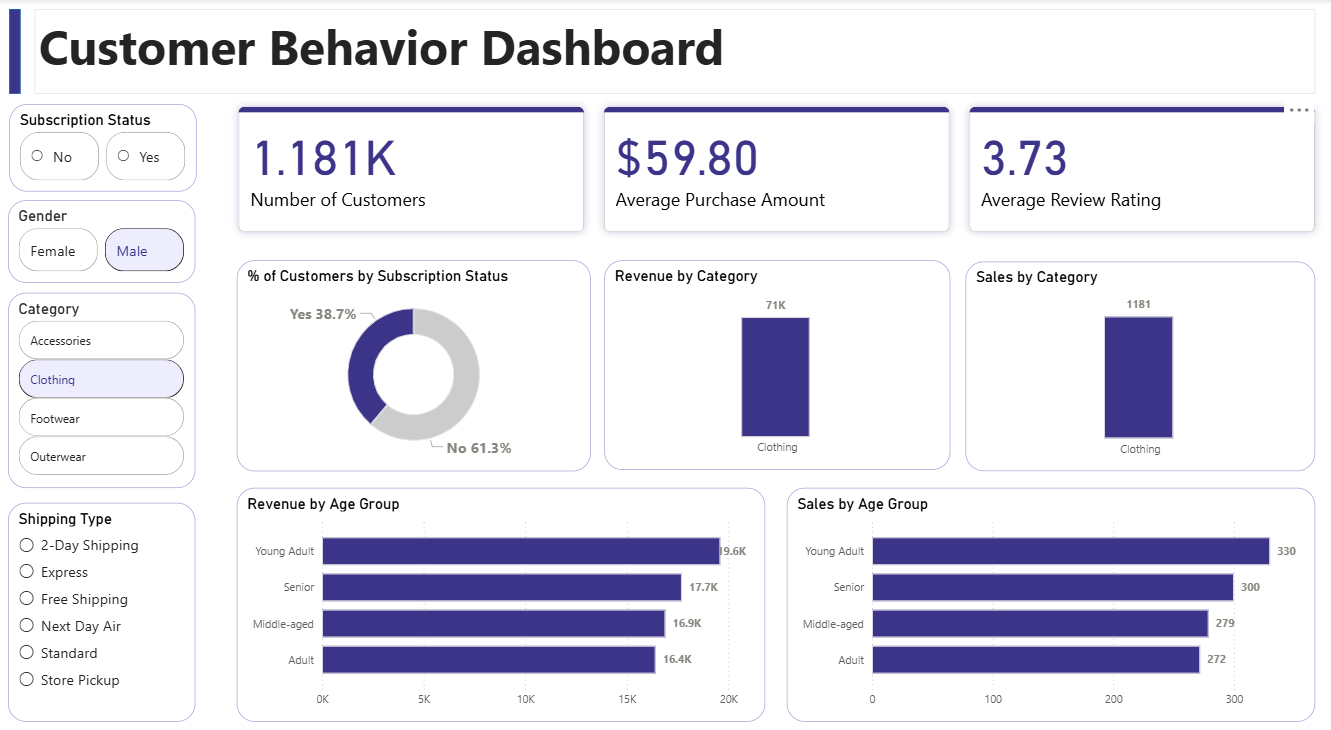

Layout of this report page (visuals, bound fields, positions):
{"tool":"powerbi","page":{"name":"Page 1","canvas":[1500,820],"ordinal":0},"visuals":[{"type":"shape","box":[23.7,11.1,12.5,94.7],"z":9000},{"type":"clusteredBarChart","title":"Sales by Age Group","fields":{"Category":["customer_behavior customer.age_group"],"Y":["CountNonNull(customer_behavior customer.customer_id)"]},"box":[889.9,544.5,589.1,260.4],"z":14000},{"type":"clusteredBarChart","title":"Revenue by Age Group","fields":{"Category":["customer_behavior customer.age_group"],"Y":["Sum(customer_behavior customer.purchase_amount)"]},"box":[277.1,544.5,589.1,260.4],"z":16000},{"type":"clusteredColumnChart","title":"Sales by Category","fields":{"Category":["customer_behavior customer.category"],"Y":["CountNonNull(customer_behavior customer.customer_id)"]},"box":[1089.1,292.5,389.9,234],"z":16156},{"type":"clusteredColumnChart","title":"Revenue by Category","fields":{"Y":["Sum(customer_behavior customer.purchase_amount)"],"Category":["customer_behavior customer.category"]},"box":[686.6,291.1,385.8,234],"z":16312},{"type":"donutChart","title":"% of Customers by Subscription Status","fields":{"Category":["customer_behavior customer.subscription_status"],"Y":["CountNonNull(customer_behavior customer.customer_id)"]},"box":[277.1,291.1,394.1,235.4],"z":16625},{"type":"cardVisual","fields":{"Data":["customer_behavior customer.Number of Customers","customer_behavior customer.Average Purchase Amount","customer_behavior customer.Average Review Rating"]},"box":[263.2,104.5,1231.1,171.3],"z":16937},{"type":"advancedSlicerVisual","fields":{"Values":["customer_behavior customer.gender"]},"box":[22.3,224.2,208.9,91.9],"z":17250},{"type":"listSlicer","fields":{"Values":["customer_behavior customer.shipping_type"]},"box":[22.3,561.2,208.9,243.7],"z":17312},{"type":"advancedSlicerVisual","fields":{"Values":["customer_behavior customer.category"]},"box":[22.3,327.3,208.9,217.3],"z":17375},{"type":"advancedSlicerVisual","fields":{"Values":["customer_behavior customer.subscription_status"]},"box":[23.7,117,208.9,97.5],"z":17500},{"type":"textbox","box":[51.5,11.1,1427.5,94.7],"z":18000}]}

Visuals, with their boxes in screenshot pixels (x1, y1, x2, y2), scaled from the page's 1500x820 canvas onto the 1331x730 screenshot:
shape: {"left": 21, "top": 10, "right": 32, "bottom": 94}
"Sales by Age Group" clusteredBarChart: {"left": 790, "top": 485, "right": 1312, "bottom": 717}
"Revenue by Age Group" clusteredBarChart: {"left": 246, "top": 485, "right": 769, "bottom": 717}
"Sales by Category" clusteredColumnChart: {"left": 966, "top": 260, "right": 1312, "bottom": 469}
"Revenue by Category" clusteredColumnChart: {"left": 609, "top": 259, "right": 952, "bottom": 467}
"% of Customers by Subscription Status" donutChart: {"left": 246, "top": 259, "right": 596, "bottom": 469}
cardVisual - customer_behavior customer.Number of Customers x customer_behavior customer.Average Purchase Amount: {"left": 234, "top": 93, "right": 1326, "bottom": 246}
advancedSlicerVisual - customer_behavior customer.gender: {"left": 20, "top": 200, "right": 205, "bottom": 281}
listSlicer - customer_behavior customer.shipping_type: {"left": 20, "top": 500, "right": 205, "bottom": 717}
advancedSlicerVisual - customer_behavior customer.category: {"left": 20, "top": 291, "right": 205, "bottom": 485}
advancedSlicerVisual - customer_behavior customer.subscription_status: {"left": 21, "top": 104, "right": 206, "bottom": 191}
textbox: {"left": 46, "top": 10, "right": 1312, "bottom": 94}
